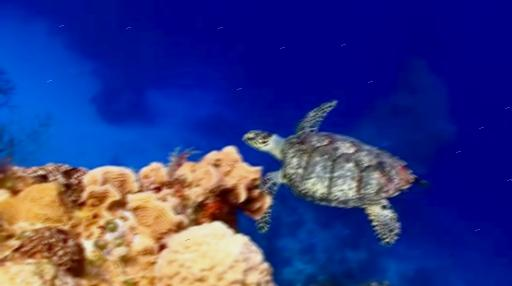Fish: (243, 101, 426, 245)
